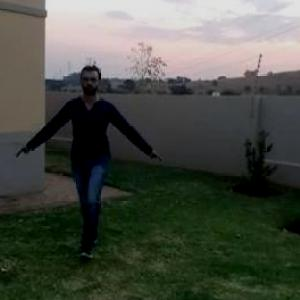land: (19, 68, 159, 247)
